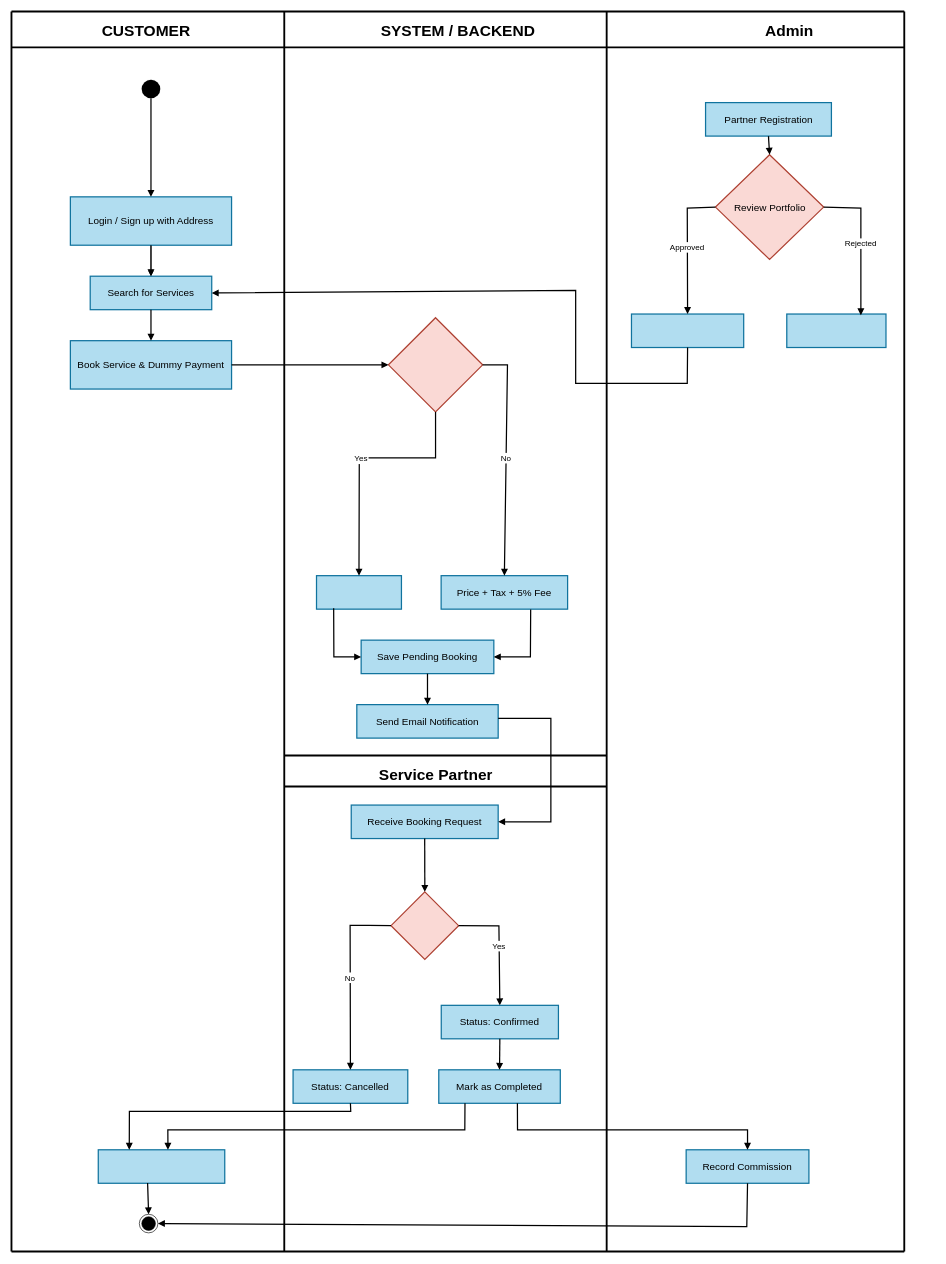
Image size: 946x1264. Some labels were removed from this diagram. Each missing label, with the centre of its shape:
"Accept?" goes at (x=424, y=925).
"Activate Account" goes at (x=687, y=330).
"Block Account" goes at (x=836, y=330).
"First Booking?" goes at (x=435, y=364).
"Price + Tax" goes at (x=359, y=592).
"View Booking Status" goes at (x=161, y=1166).
